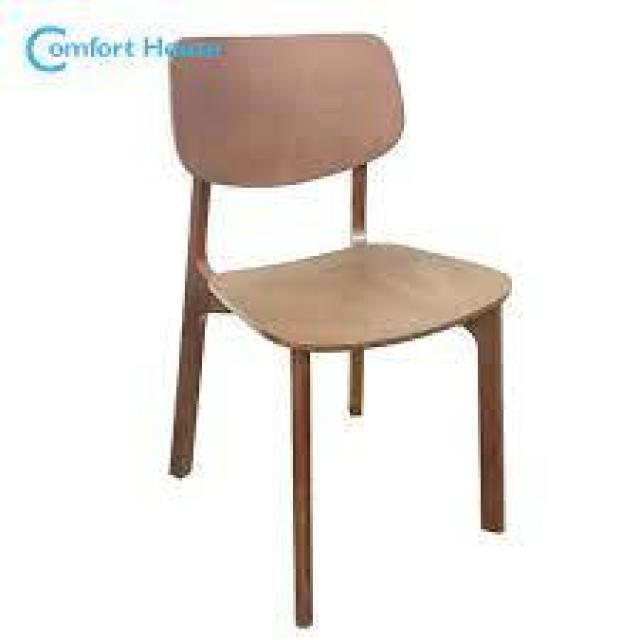chair: (117, 6, 540, 597)
